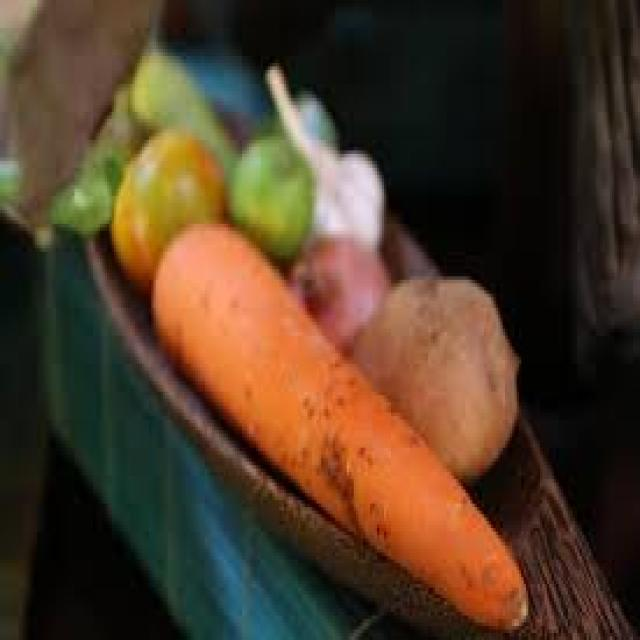biodegradable: (149, 217, 528, 636), (352, 269, 517, 483), (4, 0, 156, 206), (263, 59, 382, 245), (112, 136, 230, 294), (128, 35, 235, 182), (284, 231, 386, 350), (223, 126, 312, 259), (259, 84, 338, 150), (107, 74, 147, 151)
